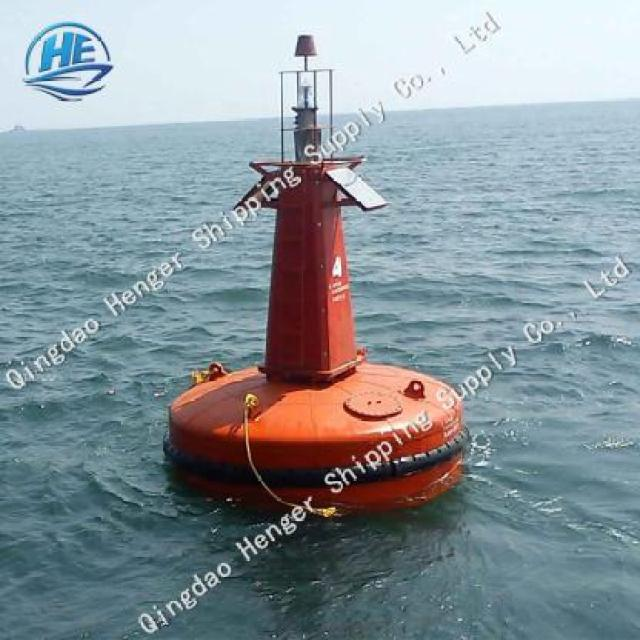buoy: (153, 29, 487, 518)
